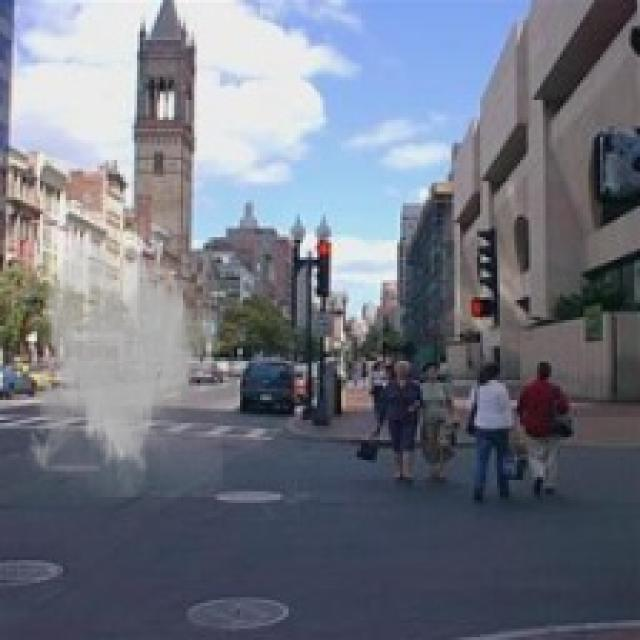smoke: (23, 232, 223, 497)
